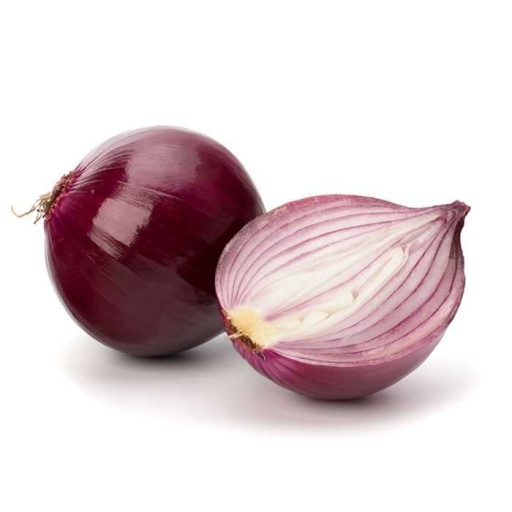Zwiebel: (11, 126, 266, 358), (215, 194, 470, 402)
